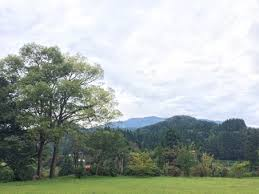field: (5, 165, 259, 193)
mountain: (99, 115, 259, 176)
sky: (107, 11, 258, 112)
tree: (8, 51, 104, 173)
